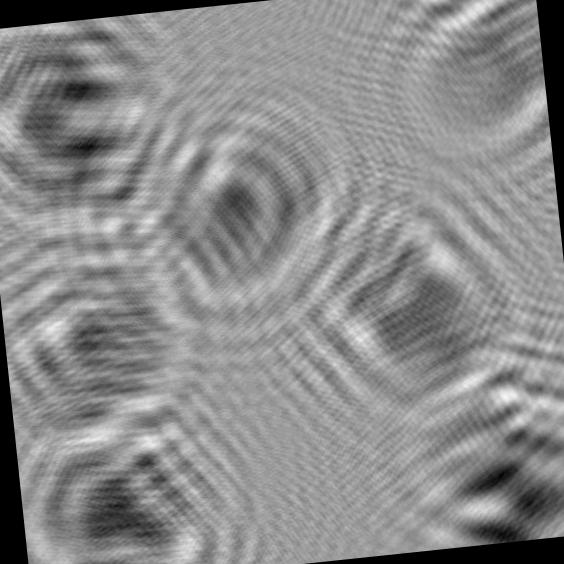A: (12, 385, 273, 564)
I: (350, 0, 557, 216)
J: (81, 55, 414, 377)
L: (0, 209, 244, 481)
M: (0, 8, 210, 254)
T: (258, 160, 564, 462)
W: (380, 353, 564, 553)
